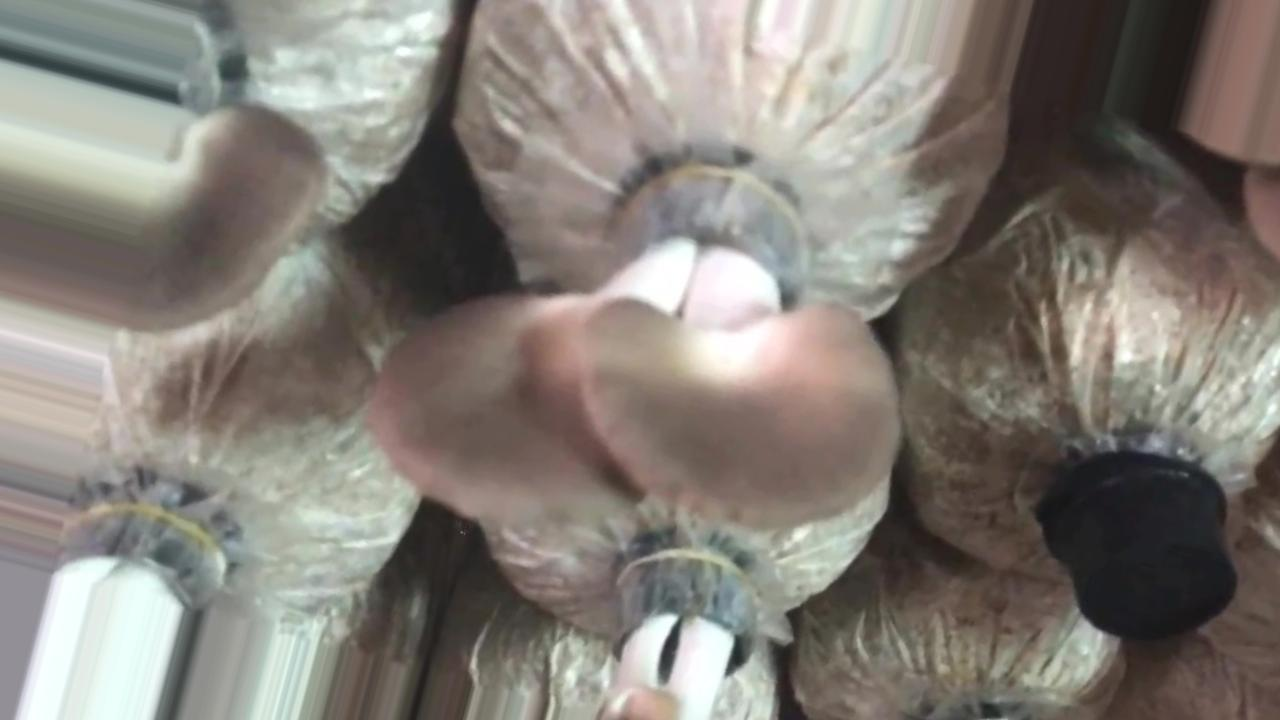nam: (364, 153, 906, 543), (600, 530, 755, 720)
